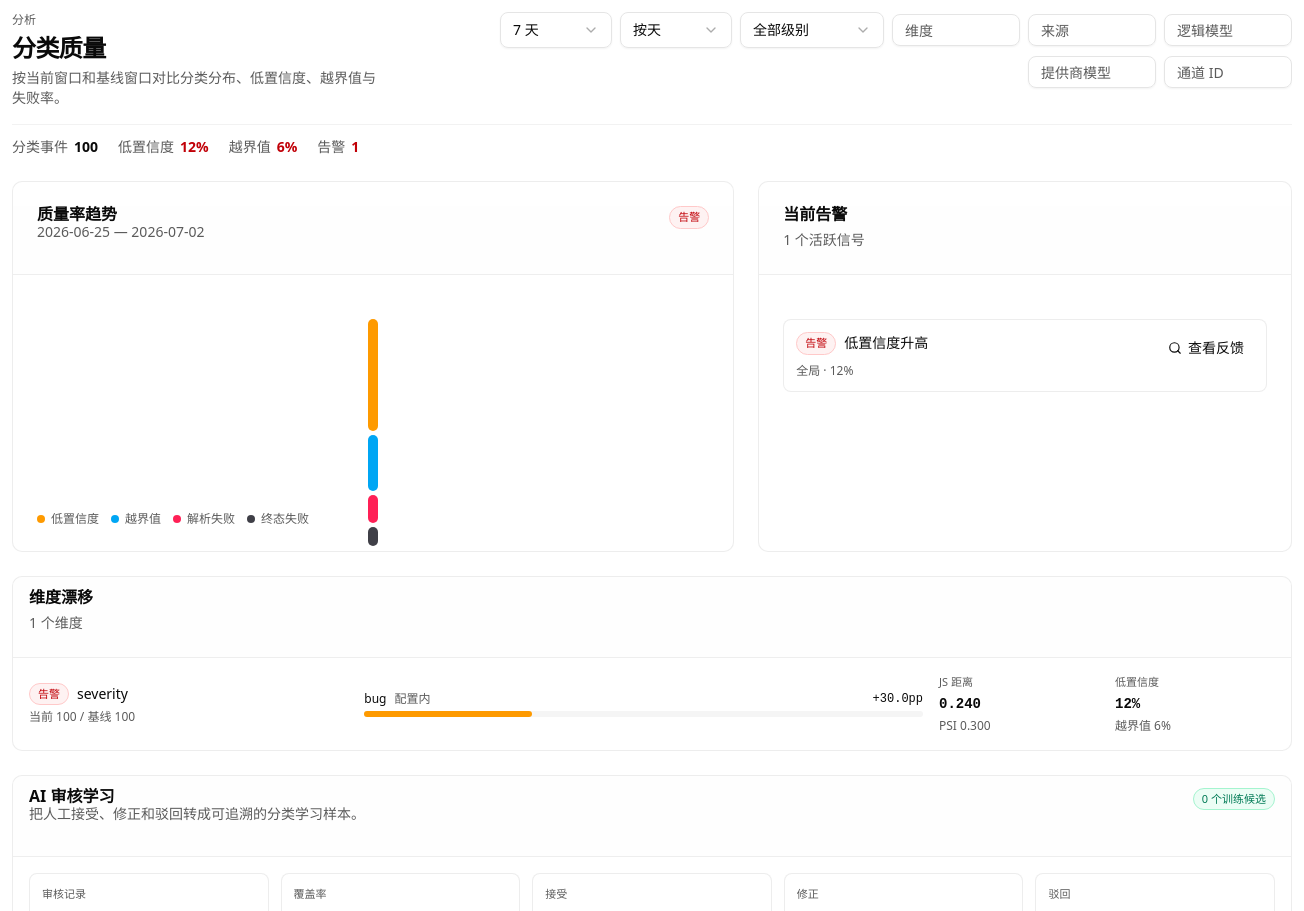
Test case: _authed.analytics.classification-quality route › renders quality warnings, drift rows, and samples from the dashboard query
The image size is (1304, 911).
Expected: the heading "分类质量" is shown, left=12, top=31, right=106, bottom=64
Expected: the text "低置信度升高" is shown, left=844, top=333, right=928, bottom=353
Type "api" into the field labelled "来源". click: point(1092, 30)
box: left=1028, top=14, right=1156, bottom=46
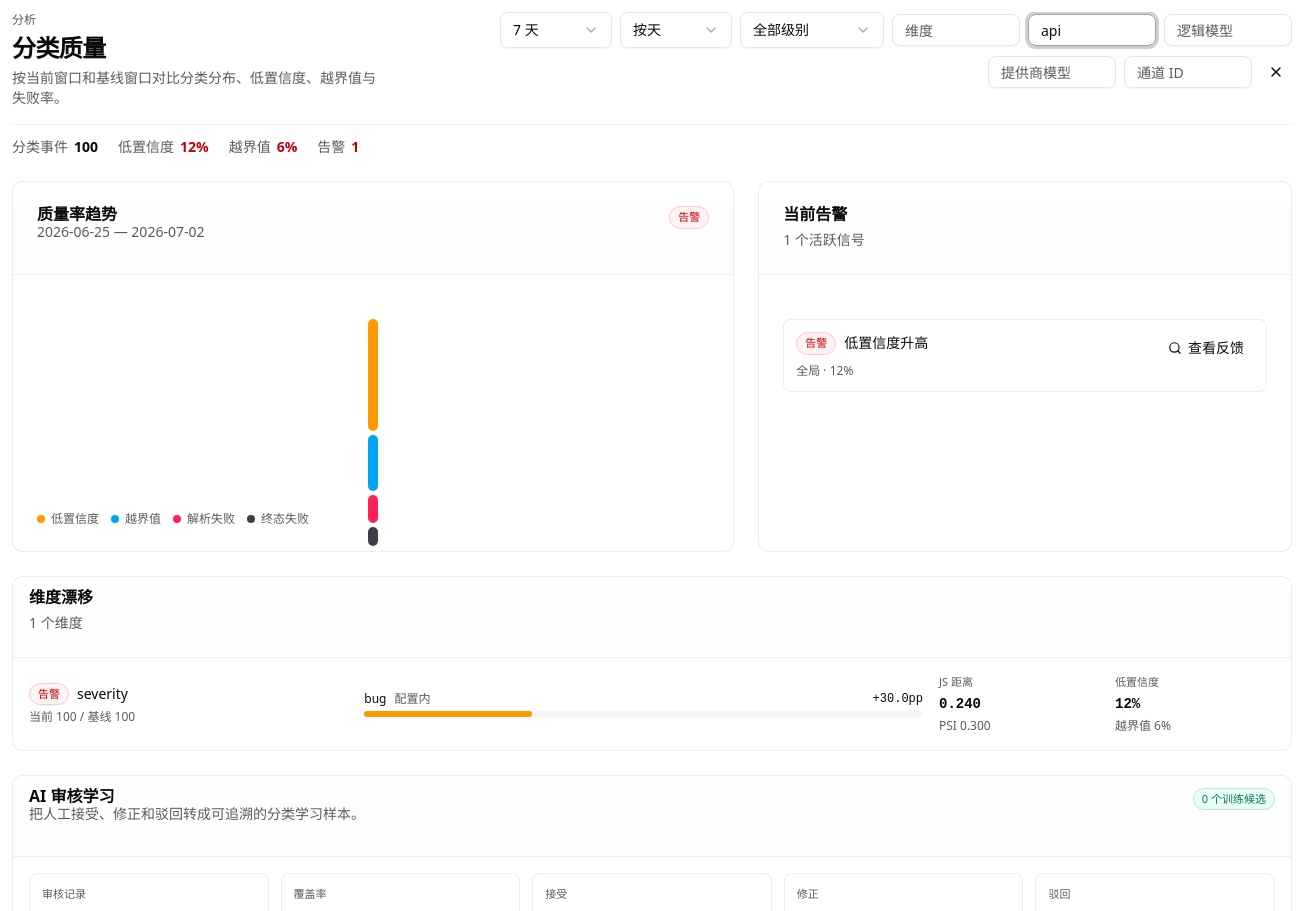
Click the button named "清除高级筛选". click: point(1276, 72)
box: left=1260, top=56, right=1292, bottom=88
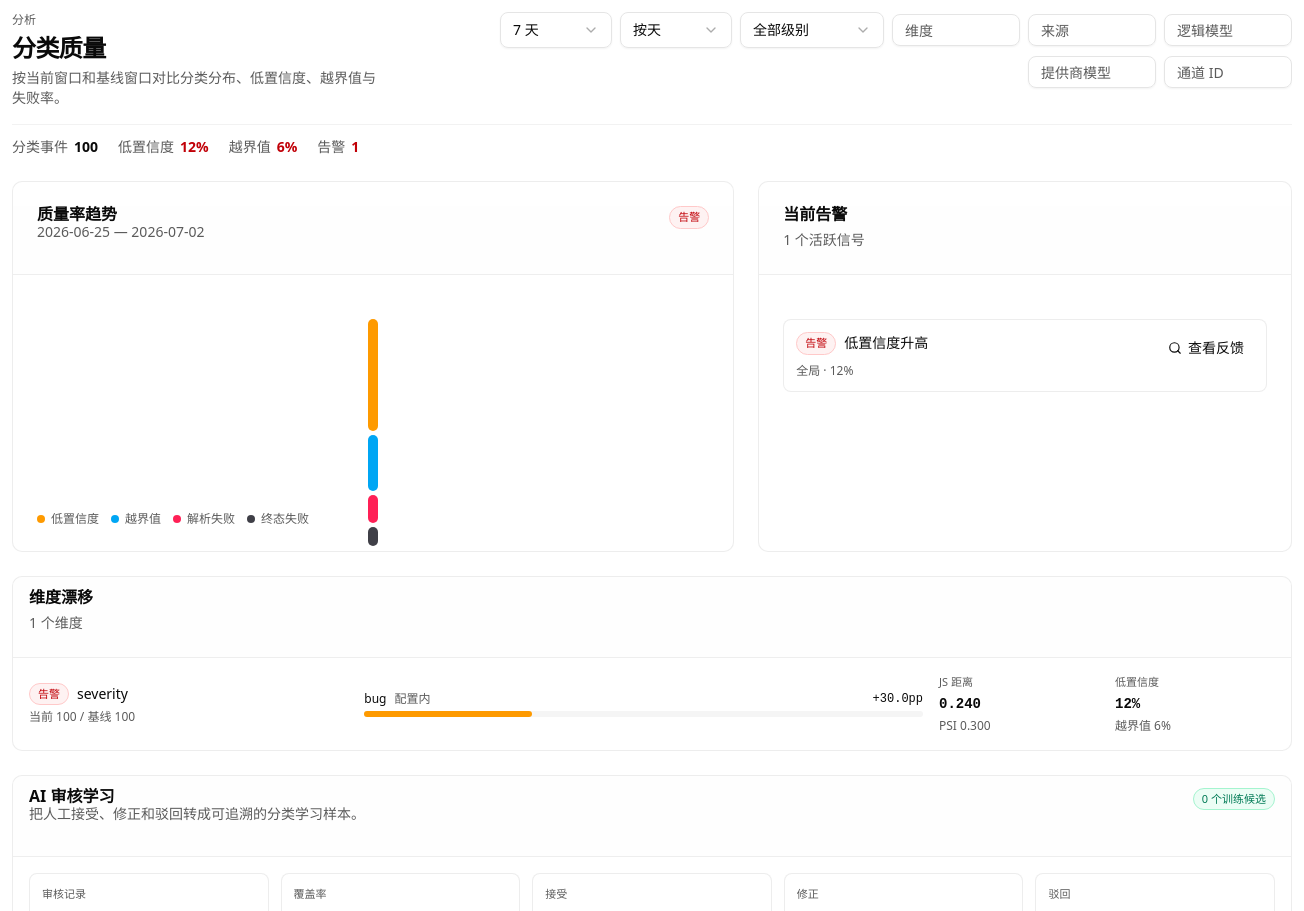
Expected: the field labelled "来源" is empty, left=1028, top=14, right=1156, bottom=46
Expected: the button labelled "清除高级筛选" is gone
